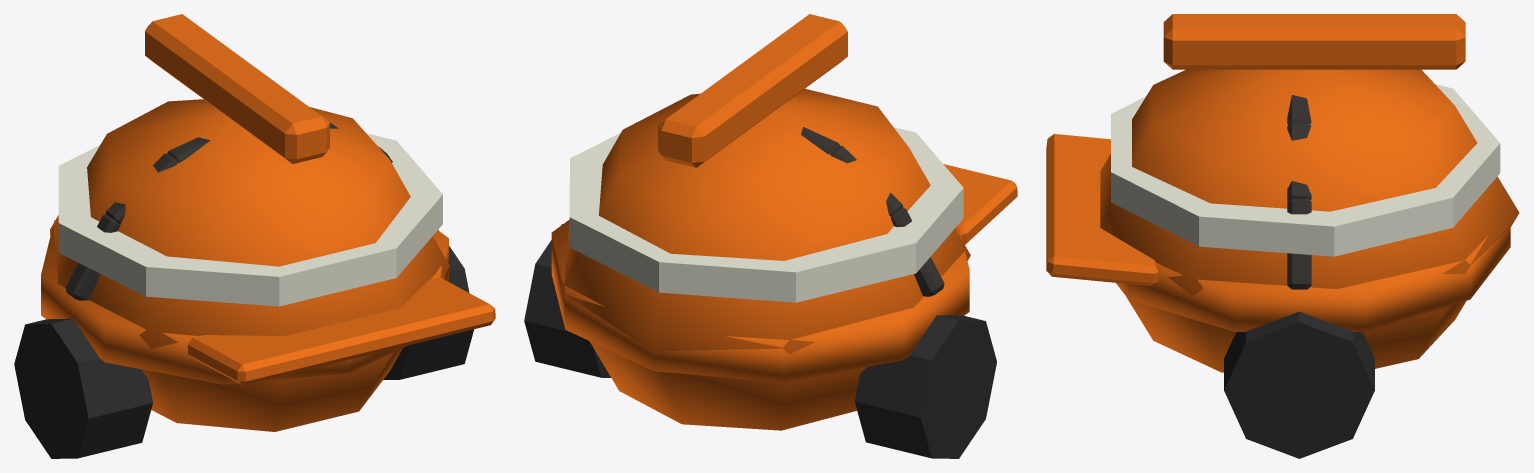
The model's file is npc_hardhat_muffs.glb.
3 renders of one model, left to right at view 1: azimuth 30°, elevation 25°; view 2: azimuth 150°, elevation 25°; view 3: azimuth 270°, elevation 25°, orthographic. The views are drawn at different scales.
Parts seen in each view (by area): view 1: part.npc_hardhat_muffs; view 2: part.npc_hardhat_muffs; view 3: part.npc_hardhat_muffs.
Boxes of the visible parts, bbox=[...] form: part.npc_hardhat_muffs: bbox=[14, 14, 495, 458]; part.npc_hardhat_muffs: bbox=[524, 14, 1017, 458]; part.npc_hardhat_muffs: bbox=[1046, 14, 1519, 458].
Size of the model in its own units: 0.3 by 0.2507 by 0.3135.
